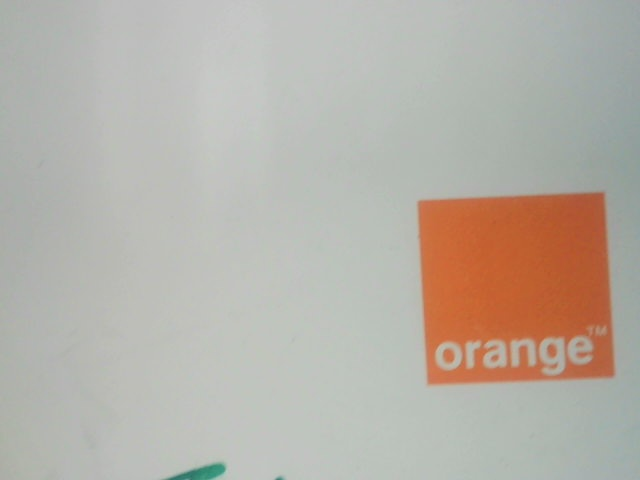AR_Orange: (394, 181, 619, 388)
